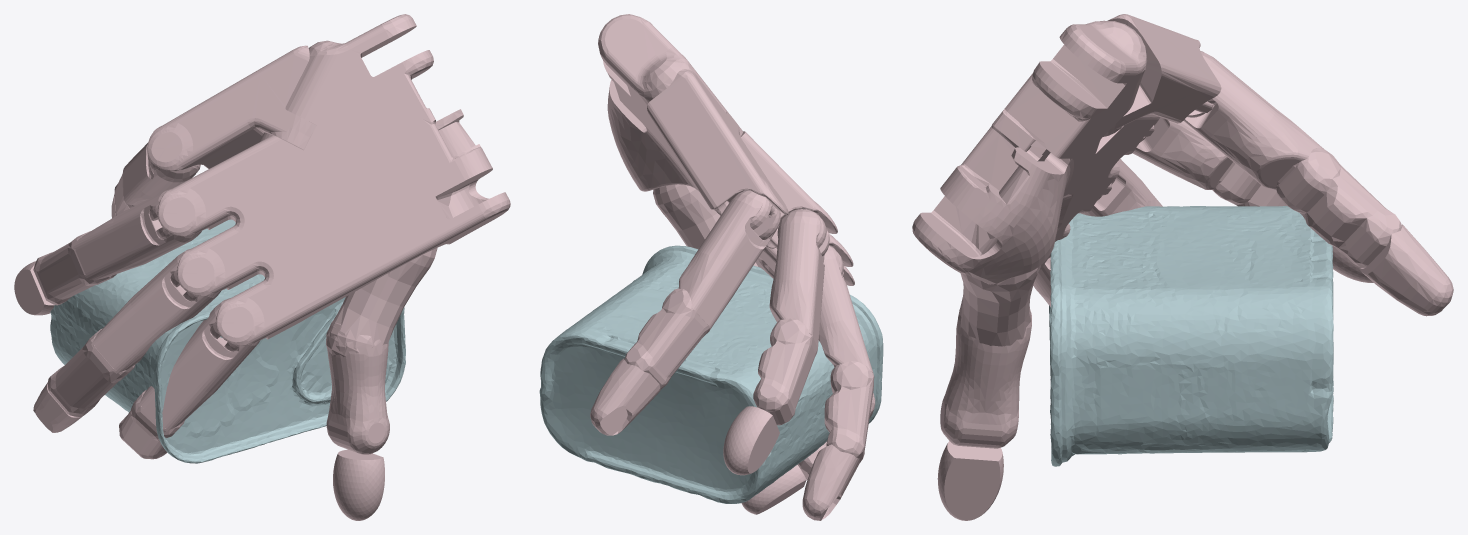
The model's file is grasp_1.glb.
3 renders of one model, left to right at view 1: azimuth 30°, elevation 25°; view 2: azimuth 150°, elevation 25°; view 3: azimuth 270°, elevation 25°, orthographic. The views are drawn at different scales.
Parts seen in each view (by area): view 1: world; view 2: world; view 3: world.
Part boxes in pixels (x1=…): world: x1=14, y1=14, x2=510, y2=520; world: x1=539, y1=14, x2=883, y2=520; world: x1=912, y1=14, x2=1453, y2=520.
Bounding box in the file's own units: 0.1434 × 0.1747 × 0.1588.
